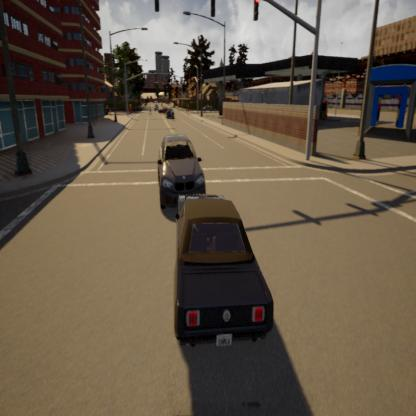Cars: (163, 173, 283, 360), (154, 130, 211, 216)
